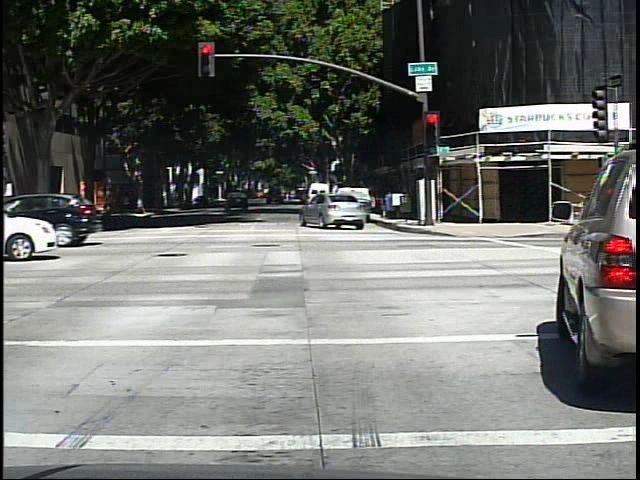person: (99, 186, 112, 218)
